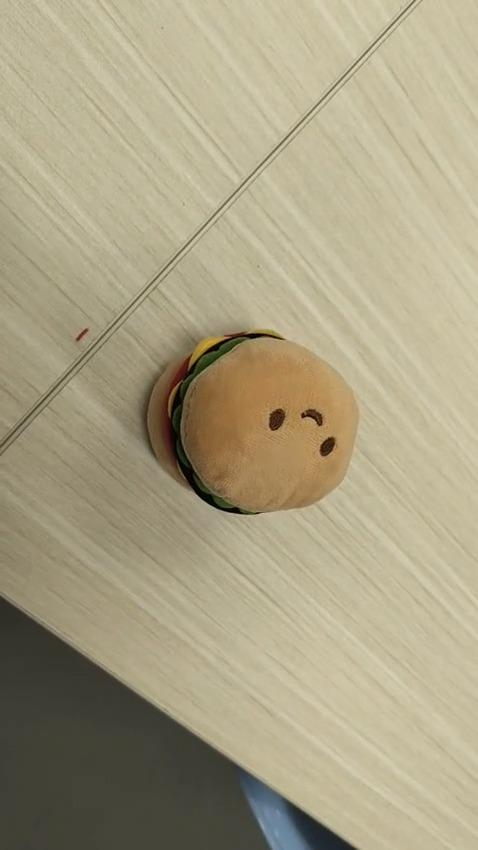hamburger: (145, 327, 360, 516)
